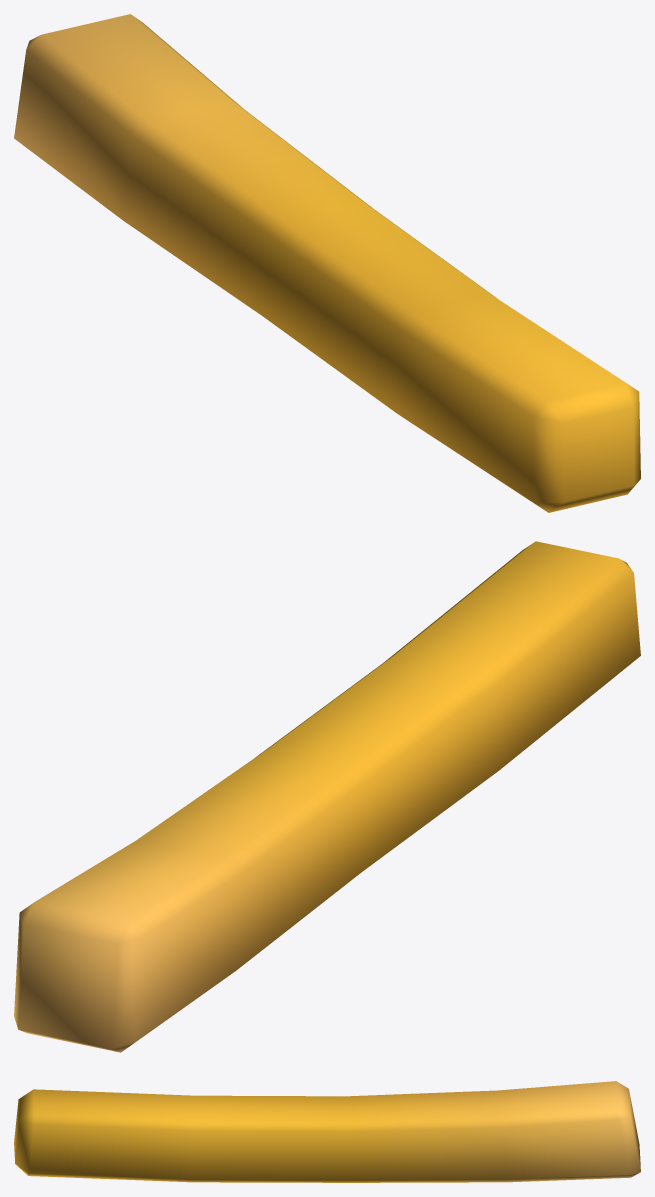
The model's file is fries_002.fbx.
3 renders of one model, top to bottom at view 1: azimuth 30°, elevation 25°; view 2: azimuth 150°, elevation 25°; view 3: azimuth 270°, elevation 25°, orthographic. The views are drawn at different scales.
Visible parts, largest first — view 1: fries_002; view 2: fries_002; view 3: fries_002.
Boxes of the visible parts, x1,y1,x2,y2 form: fries_002: (14,14,640,512); fries_002: (14,541,640,1052); fries_002: (14,1081,640,1182).
Bounding box in the file's own units: 1.79 × 13.3 × 1.78.
